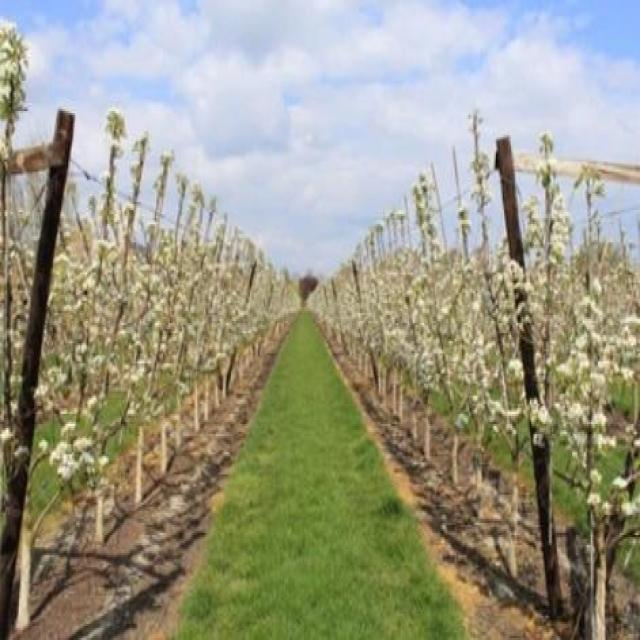row: (69, 310, 517, 638)
